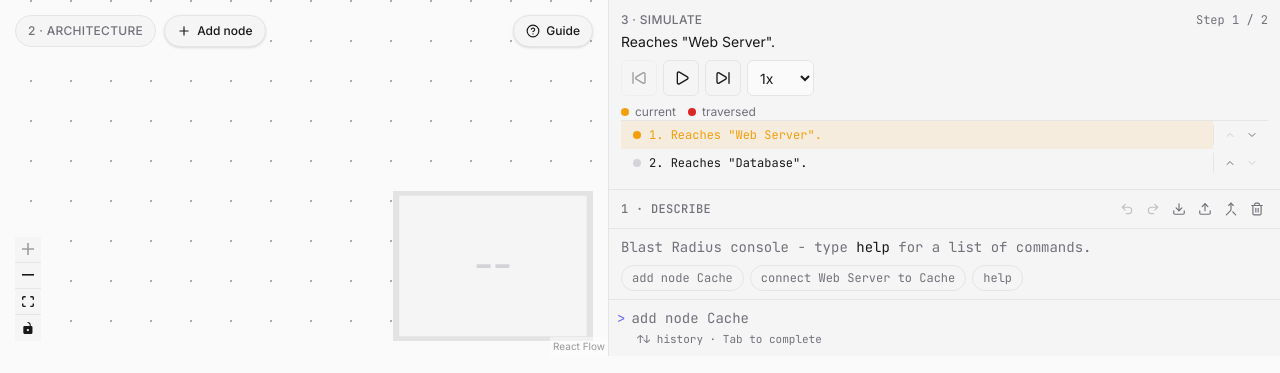
ArchitectureWorkspace › moving a different node past the current step keeps the current node's identity, instead of silently reassigning 'current' to whichever node shifted into that s
Expected: the text "Step 1 / 2" is shown, top-left (1196, 12), bottom-right (1268, 28)
Note: Move Database (step 2, a different node) up to step 1
Click the button named "Move step 2 up" at (1230, 163), box top-left (1220, 153), bottom-right (1240, 173)
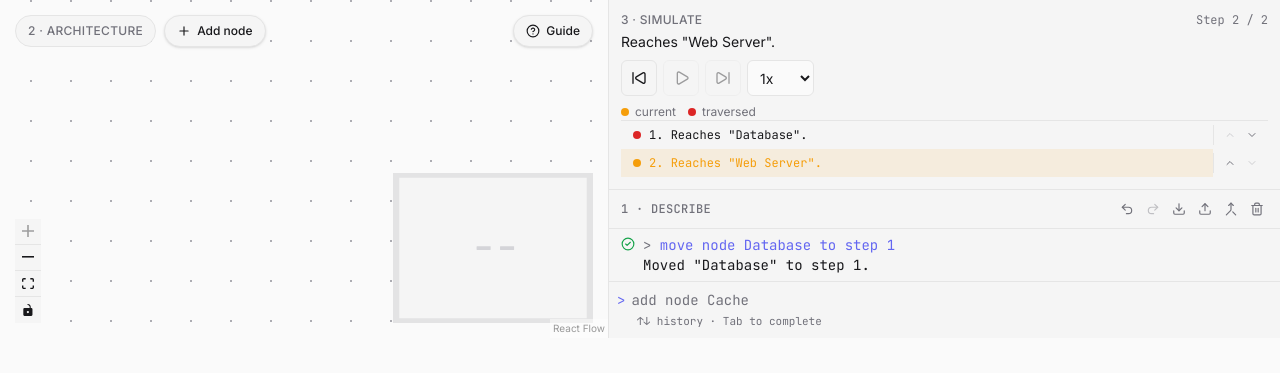
Expected: the text "Reaches \"Web Server\"." is shown, top-left (621, 33), bottom-right (775, 50)
Result: the text "Step 2 / 2" is shown at top-left (1196, 12), bottom-right (1268, 28)
